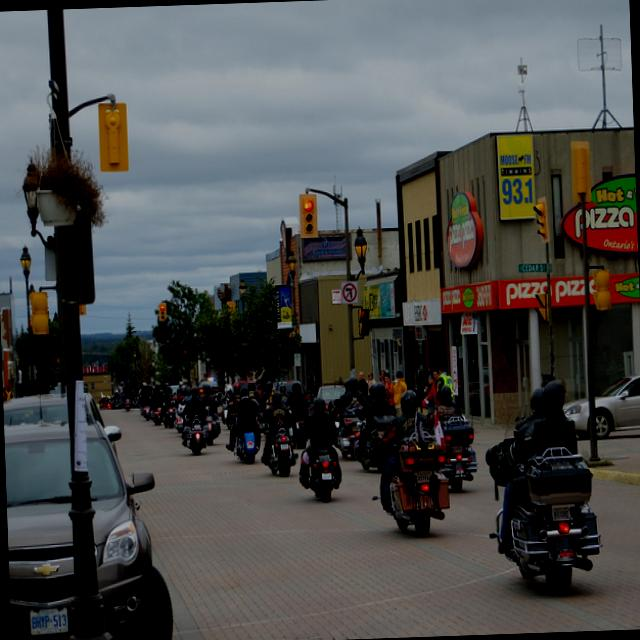Vehicle: (3, 417, 161, 640), (484, 434, 604, 596), (388, 439, 452, 538), (564, 371, 640, 435), (2, 389, 104, 433), (432, 406, 477, 470), (359, 414, 398, 470), (308, 448, 340, 504), (182, 404, 212, 456), (264, 426, 294, 476), (336, 412, 361, 458), (312, 384, 348, 413), (232, 430, 260, 464), (141, 403, 167, 427), (196, 376, 221, 398), (205, 410, 220, 446), (163, 405, 176, 429), (220, 398, 230, 425)
